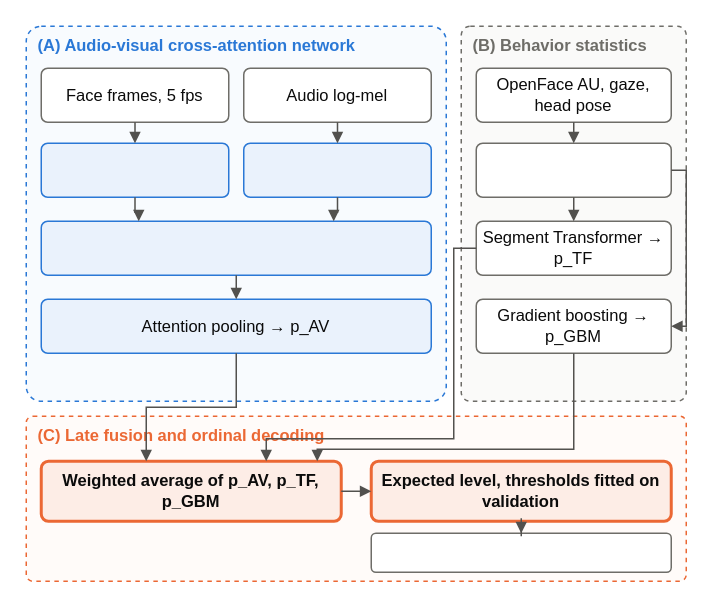
The diagram is 723 pixels wide and 608 high, and some of its shapes have lost their labels. The centre of each missing label's shape, as x and y in pixels:
"20 segments × [mean, std]" belongs at (573,169).
"Conv2D + alignment to video clock" belongs at (336,169).
"Cross-modal attention, three exchanges" belongs at (235,247).
"EfficientFace + Conv1D" belongs at (134,169).
"Engagement level 0–3" belongs at (520,552).
